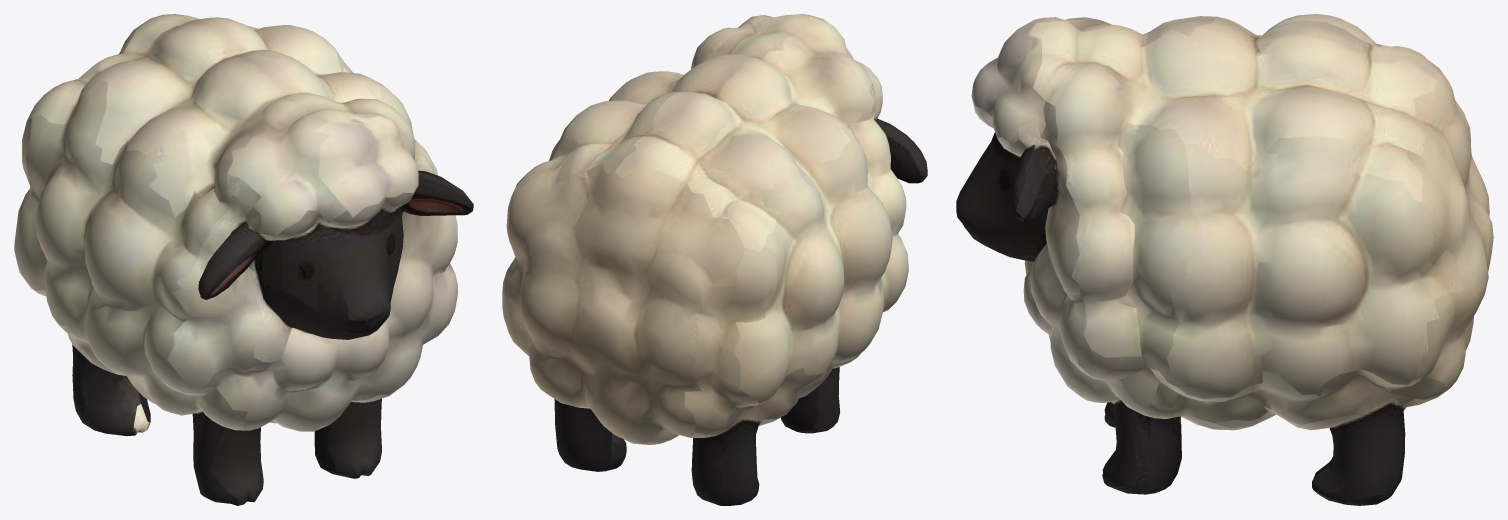
File: sheep.glb
3 renders of one model, left to right at view 1: azimuth 30°, elevation 25°; view 2: azimuth 150°, elevation 25°; view 3: azimuth 270°, elevation 25°, orthographic. The views are drawn at different scales.
Parts seen in each view (by area): view 1: sheep; view 2: sheep; view 3: sheep.
Part boxes in pixels (box(x1,y1,x2,y2)): sheep: box(14, 14, 473, 505); sheep: box(502, 14, 927, 505); sheep: box(956, 14, 1493, 505).
Bounding box in the file's own units: 0.776 × 0.8812 × 1.
1 material, 1 textured.
